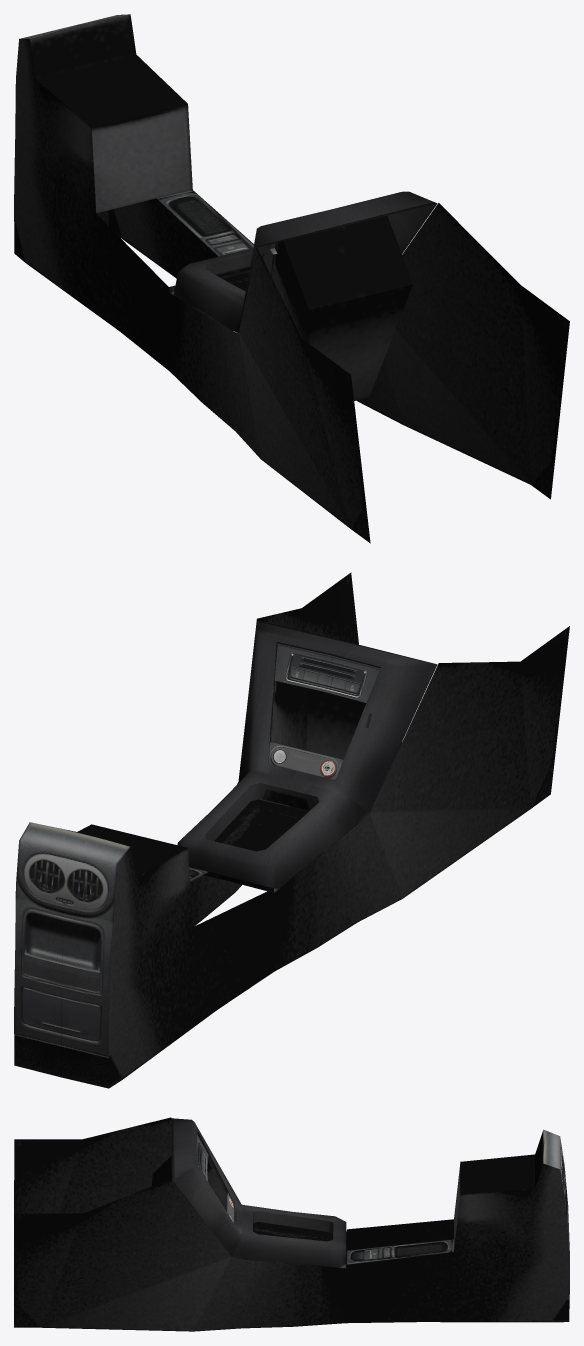
The picture shows the model from 3 angles, top to bottom: view 1: azimuth 30°, elevation 25°; view 2: azimuth 150°, elevation 25°; view 3: azimuth 270°, elevation 25°; orthographic projection. The views are drawn at different scales.
Parts seen in each view (by area): view 1: Object506; view 2: Object506; view 3: Object506.
Boxes of the visible parts, x1,y1,x2,y2 form: Object506: (14,14,569,543); Object506: (14,572,569,1088); Object506: (14,1117,569,1331).
Size of the model in its own units: 189 by 193 by 598.
